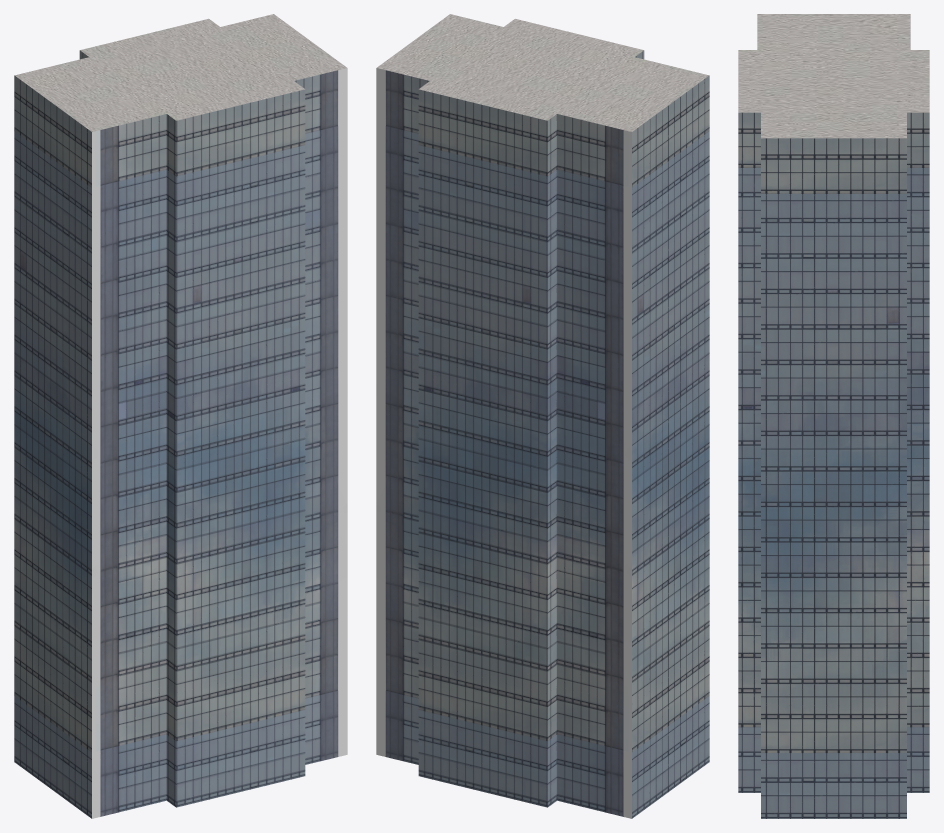
The model's file is building_004_001.glb.
3 views of the same model, side by side, from view 1: azimuth 30°, elevation 25°; view 2: azimuth 150°, elevation 25°; view 3: azimuth 270°, elevation 25° (orthographic).
Parts seen in each view (by area): view 1: building_004.001; view 2: building_004.001; view 3: building_004.001.
Part boxes in pixels (x1,y1,x2,y2): building_004.001: (14,14,347,818); building_004.001: (376,14,709,818); building_004.001: (738,14,929,818).
Size of the model in its own units: 1694 by 4320 by 1100.
Materials: 2 (2 with a texture image).
